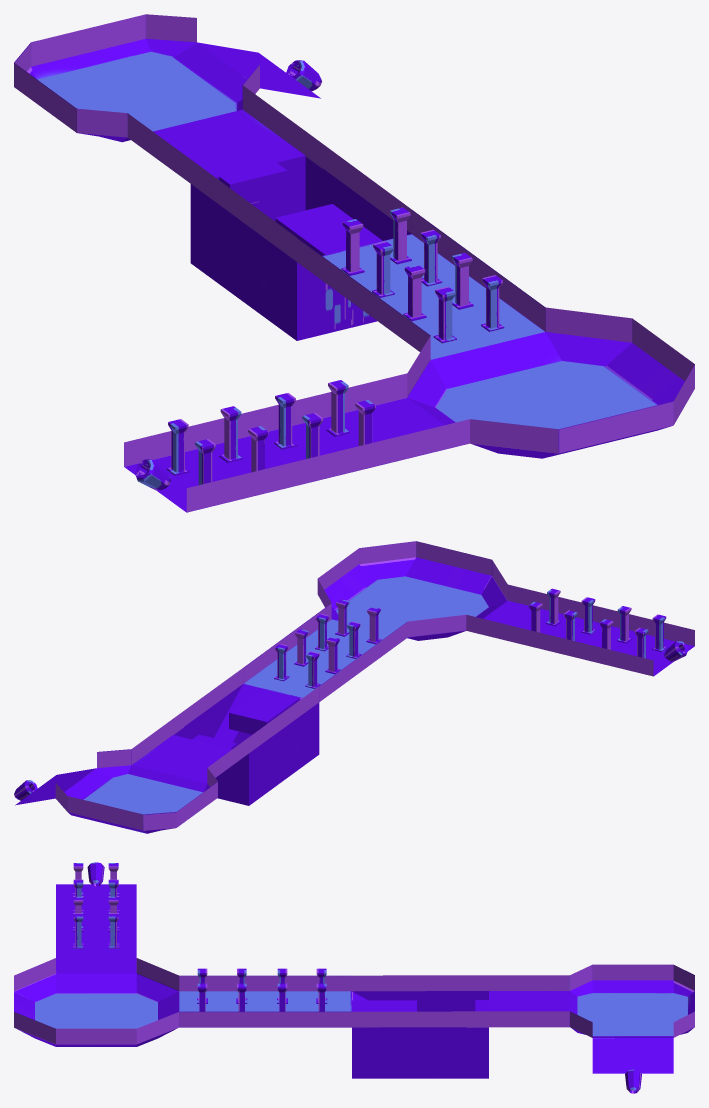
The model's file is map0_tutorialv2.obj.
3 renders of one model, top to bottom at view 1: azimuth 30°, elevation 25°; view 2: azimuth 150°, elevation 25°; view 3: azimuth 270°, elevation 25°, orthographic. The views are drawn at different scales.
Visible parts, largest first — view 1: Plano, Cubo.002, Cubo.001, Torus.001; view 2: Plano, Cubo.002, Cubo.001; view 3: Plano, Cubo.001, Cubo.002.
Part boxes in pixels (box(x1,y1,x2,y2)): Plano: box(14, 14, 694, 512); Cubo.002: box(341, 207, 504, 343); Cubo.001: box(166, 380, 375, 484); Torus.001: box(135, 459, 170, 490); Plano: box(15, 541, 694, 833); Cubo.002: box(274, 599, 381, 688); Cubo.001: box(528, 588, 666, 658); Plano: box(14, 884, 694, 1078); Cubo.001: box(73, 863, 119, 948); Cubo.002: box(197, 968, 327, 1011).
Size of the model in its own units: 255 by 51.47 by 388.
